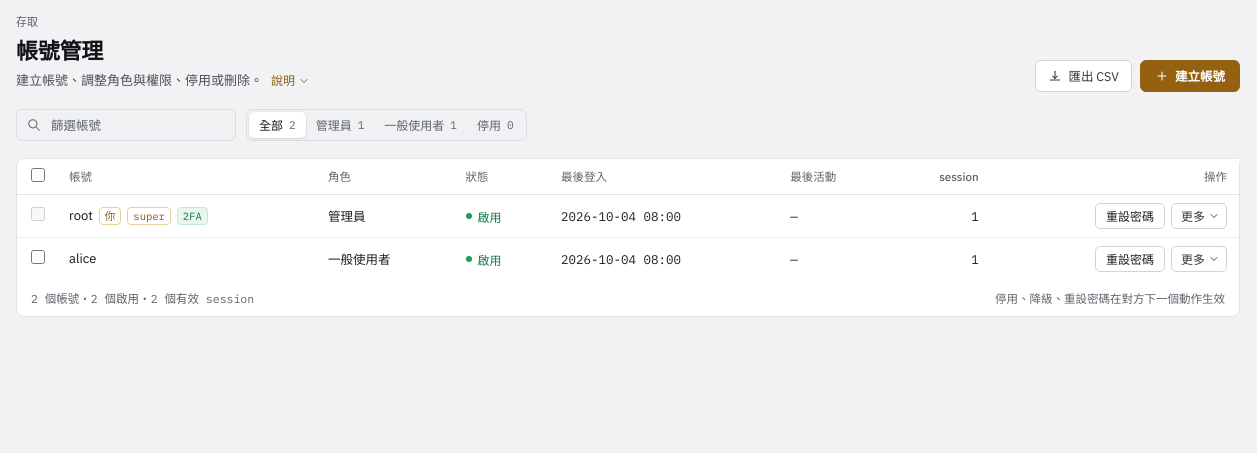
Test: 帳號表格列出角色、狀態與有效 session；自己那列的停用、降級、刪除停用並說明原因
The image size is (1257, 453).
Click the button "更多" in the row of "root". click: (1199,216)
box: x1=1171 y1=203 x2=1227 y2=229
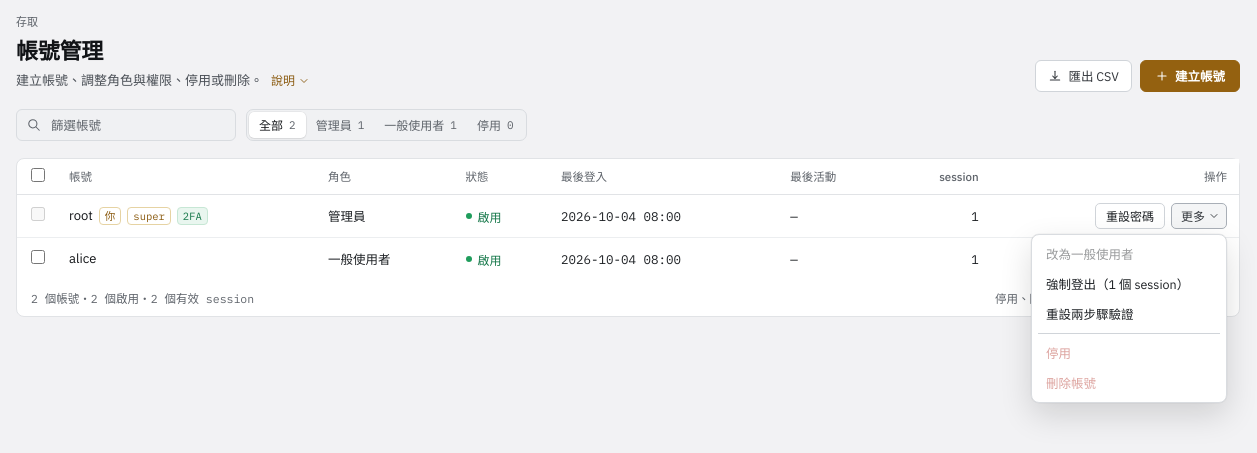
Press Escape
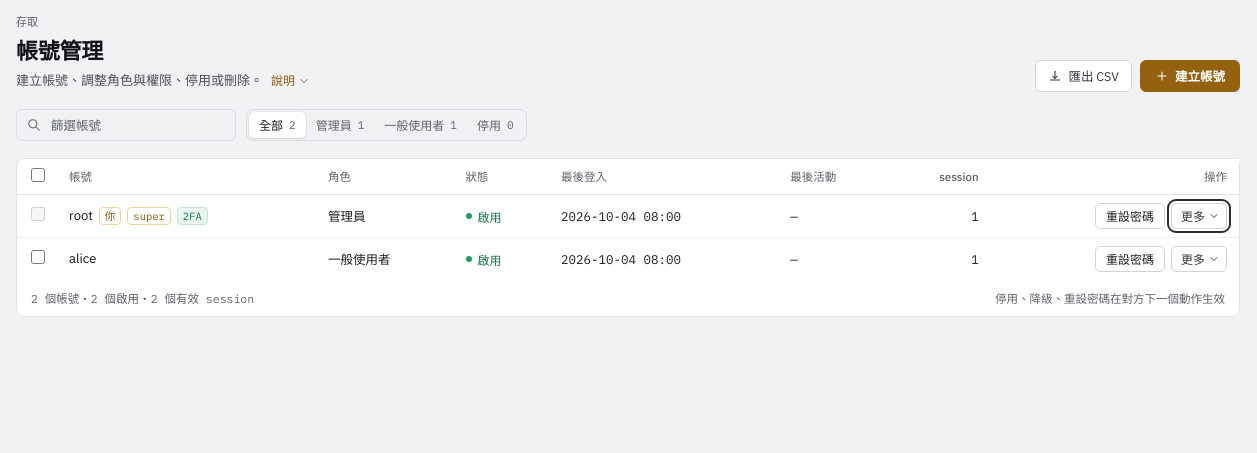
Click the button "更多" in the row of "alice". click: (1199,259)
box: x1=1171 y1=246 x2=1227 y2=272
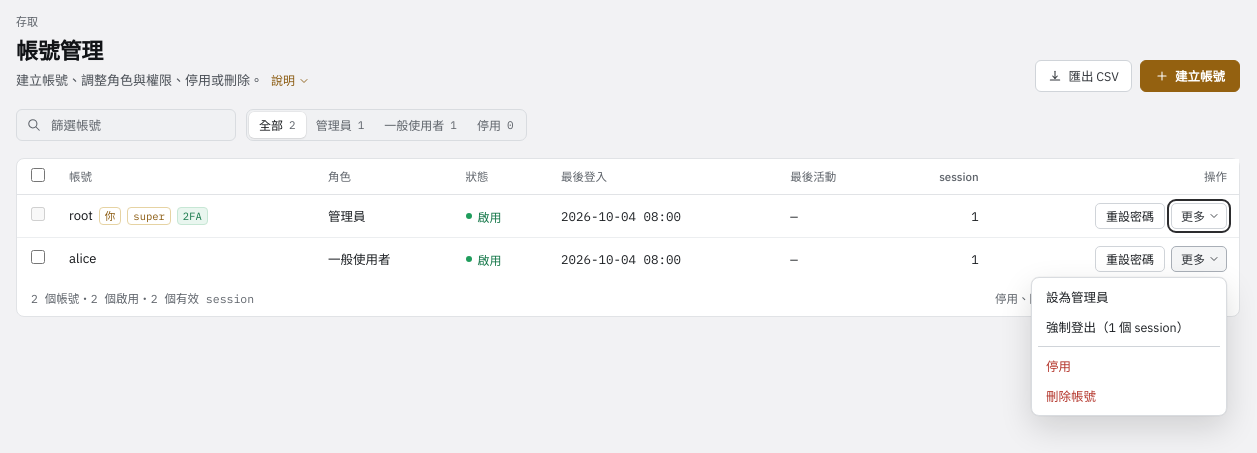
Now the menu item "停用" is enabled, box x1=1036 y1=351 x2=1222 y2=381
Now the menu items read "設為管理員", "強制登出（1 個 session）", "停用", "刪除帳號", in this order, box x1=1036 y1=282 x2=1222 y2=312; x1=1036 y1=312 x2=1222 y2=342; x1=1036 y1=351 x2=1222 y2=381; x1=1036 y1=381 x2=1222 y2=411
